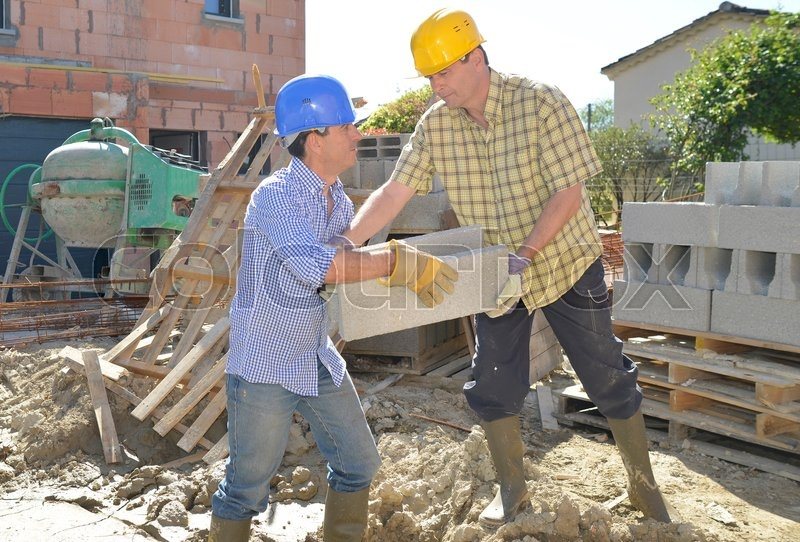blue: (274, 75, 362, 175)
yellow: (409, 6, 488, 105)
